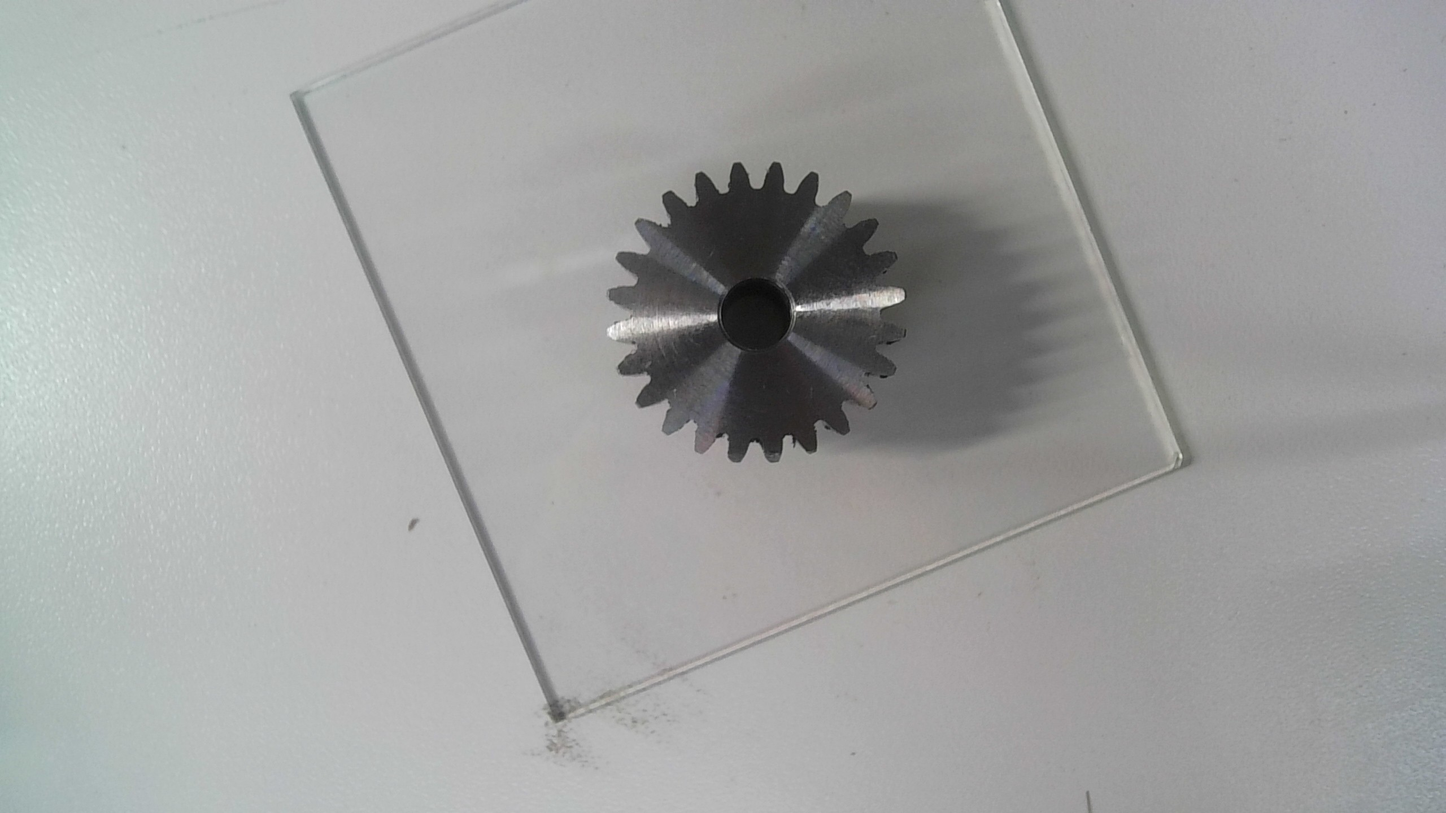gear: (599, 158, 912, 467)
